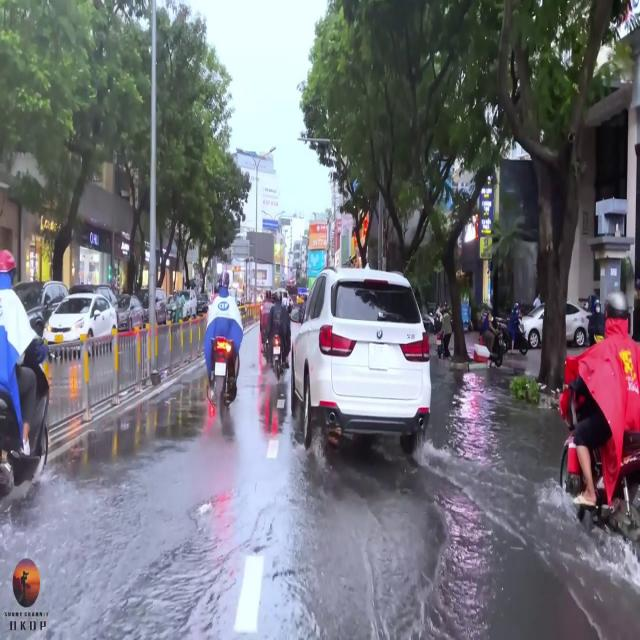bien_vang: (54, 334, 64, 343)
